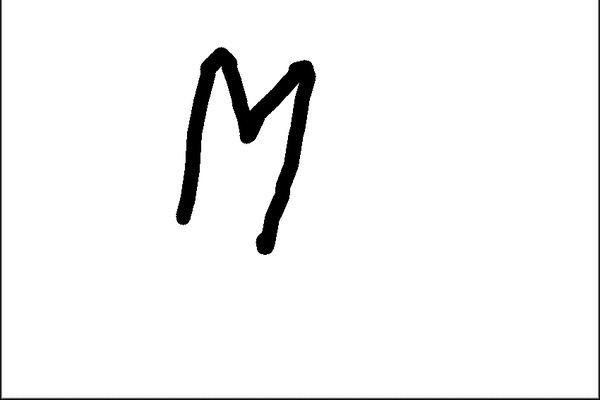M: (171, 49, 319, 259)
